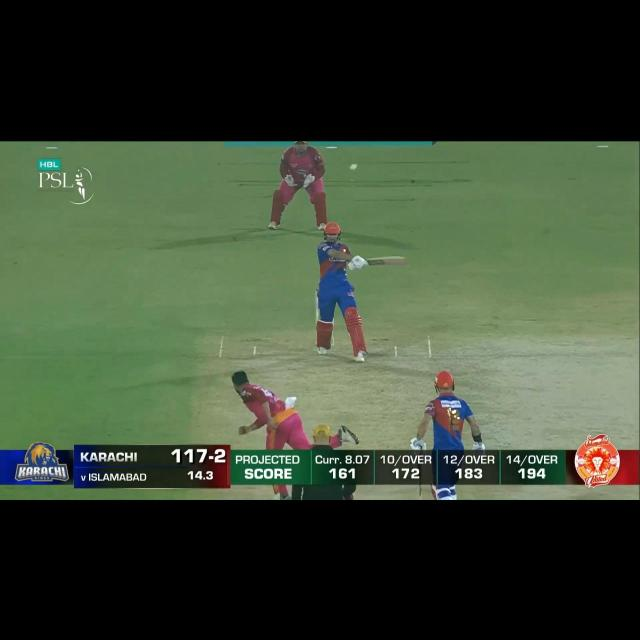bat: (366, 257, 406, 268)
toe: (400, 254, 409, 270)
